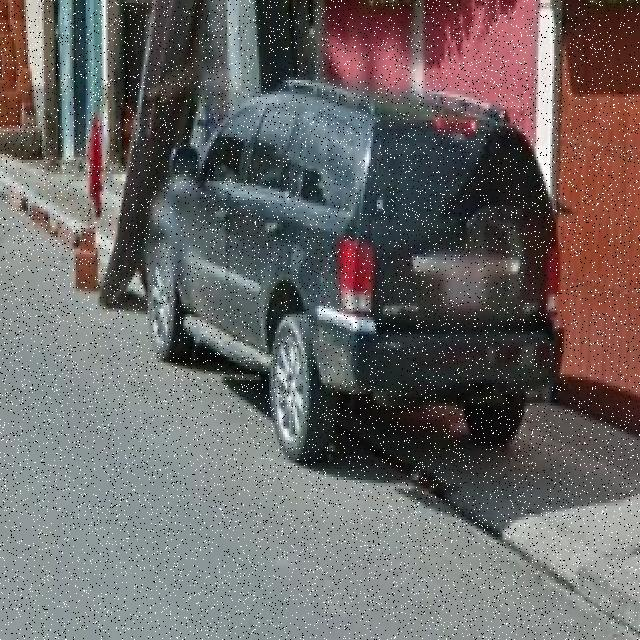cars: (136, 72, 564, 489)
